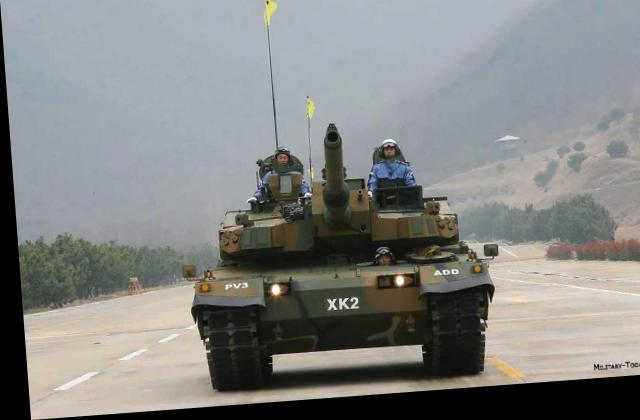other: (244, 140, 300, 206), (363, 133, 411, 199)
tank: (175, 162, 490, 401)
